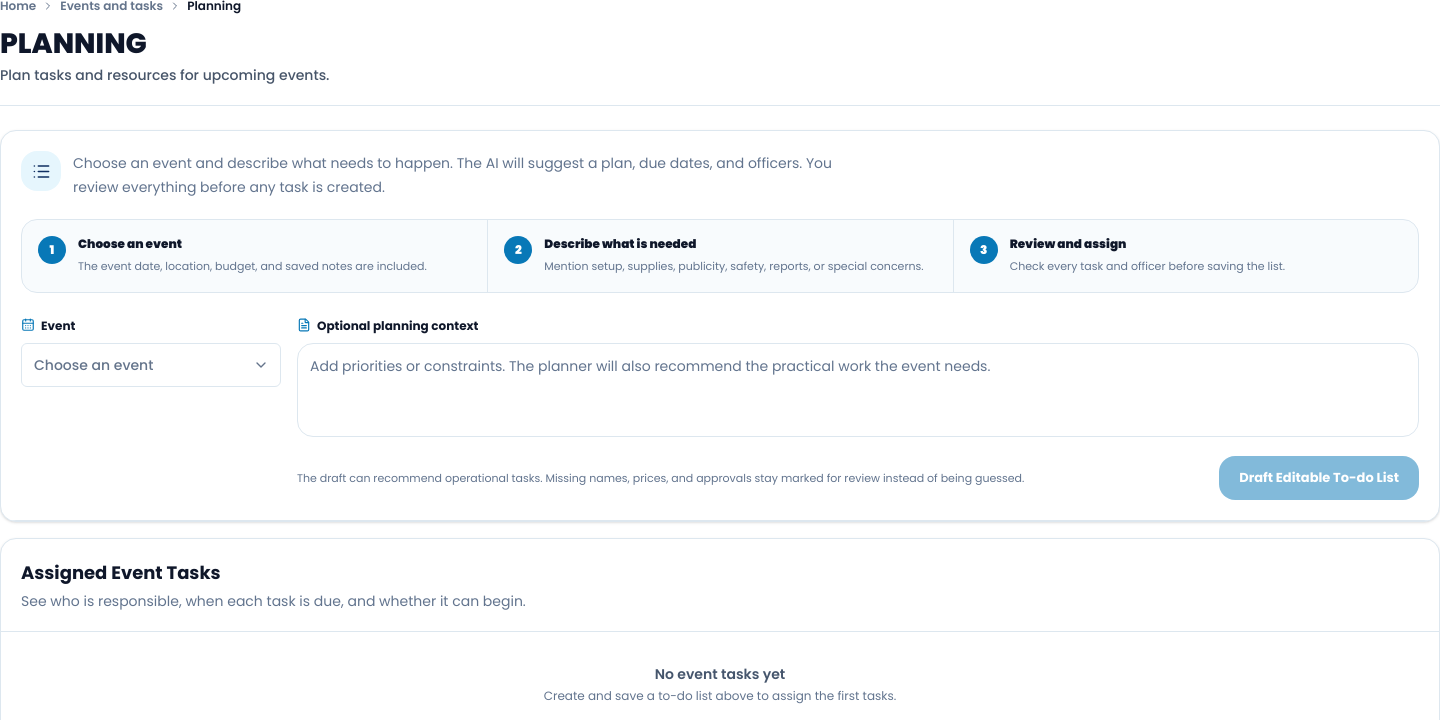
EventsPage approval-request launch › shows a readable AI-created to-do list without raw API dates or technical labels
Expected: the heading "Planning" is shown, [0,24,147,63]
Select "Leadership Summit" in the dropdown labelled "Event" at (48, 326), box [21,317,75,334]
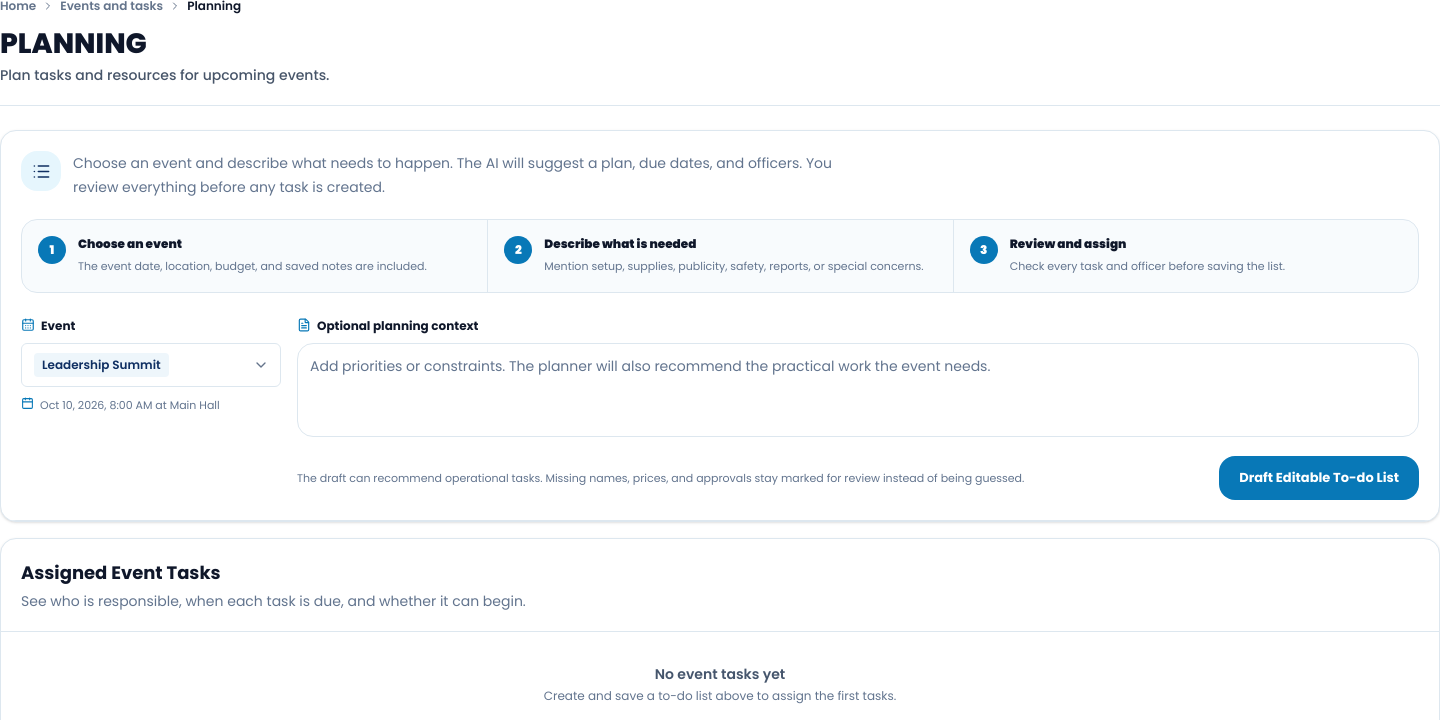
Replace the text in the text box labelled "Optional planning context" with "Plan setup and safety." at (858, 390), box [297,343,1419,437]
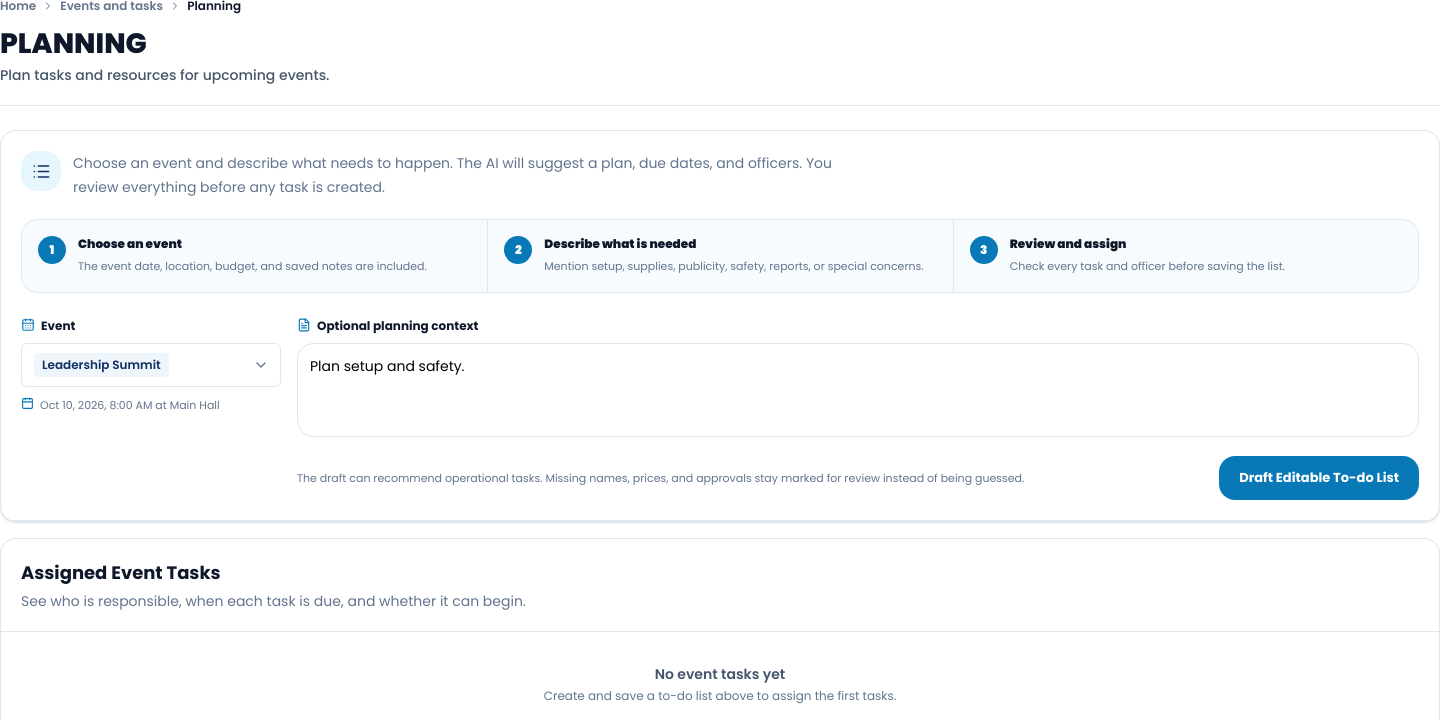
Click the button "Draft Editable To-do List" at (1319, 478), box [1219,456,1419,500]
(page scrolled)
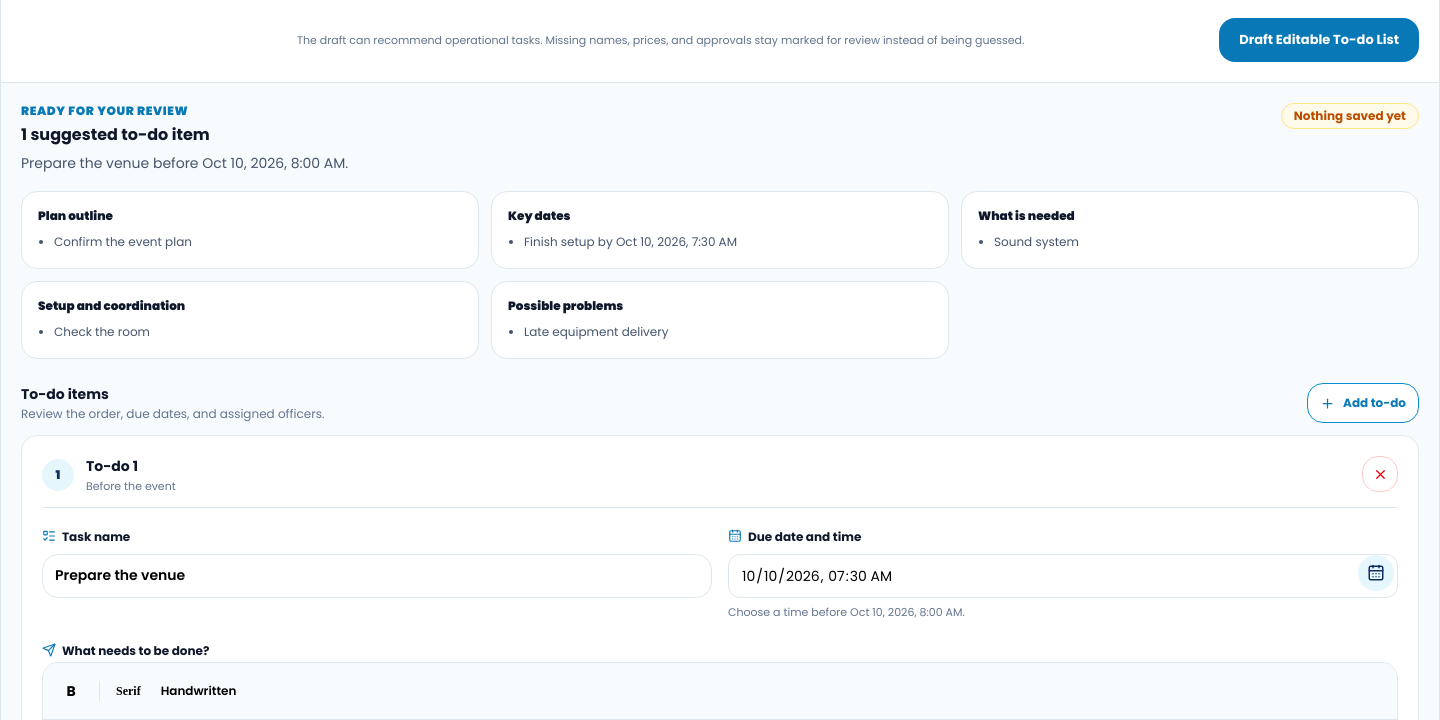
Now the heading "1 suggested to-do item" is shown, box [21,123,210,146]
Click the button "Add to-do" at (1363, 403), box [1307,383,1419,423]
(page scrolled)
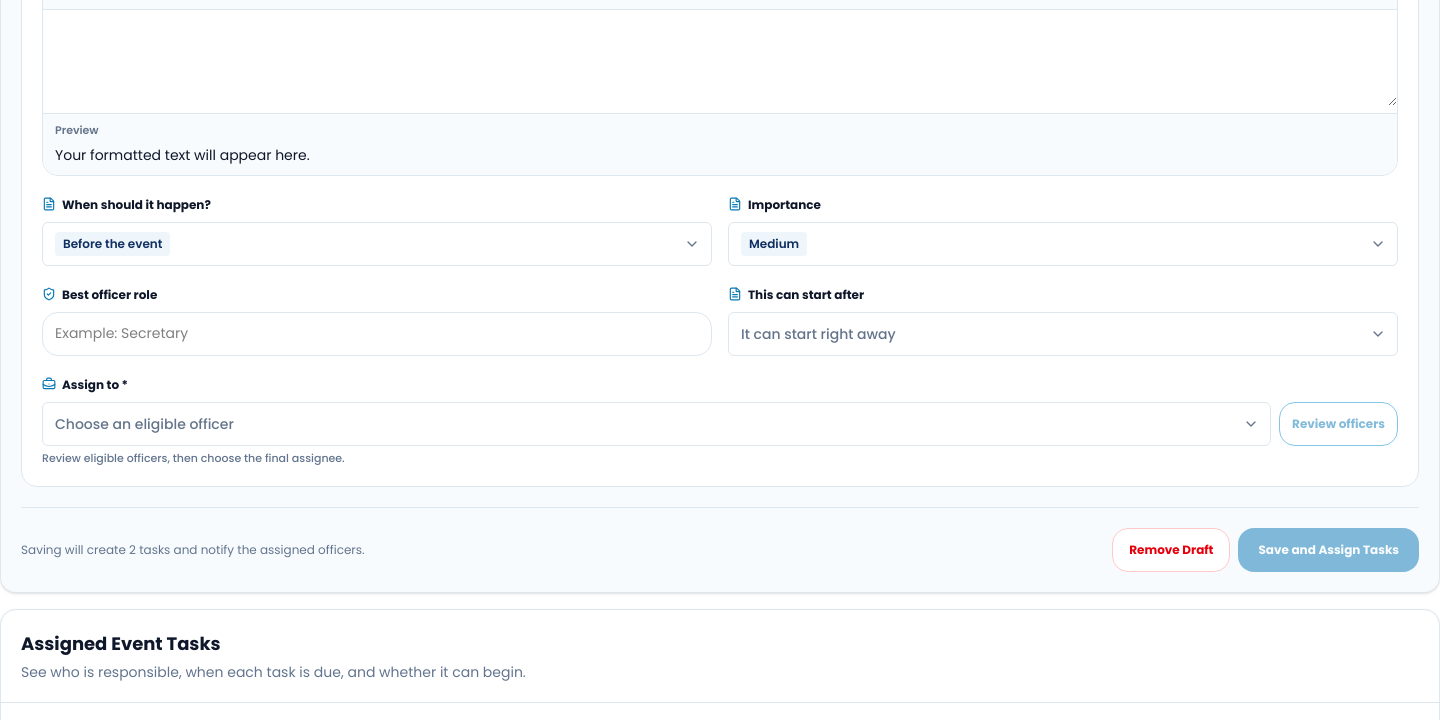
Now the label named "Task 2 officer" is empty, box [42,376,128,392]
Now the text "Review eligible officers, then choose the final assignee." is shown, box [42,450,345,466]
Now the button "Save and Assign Tasks" is disabled, box [1238,528,1419,572]
